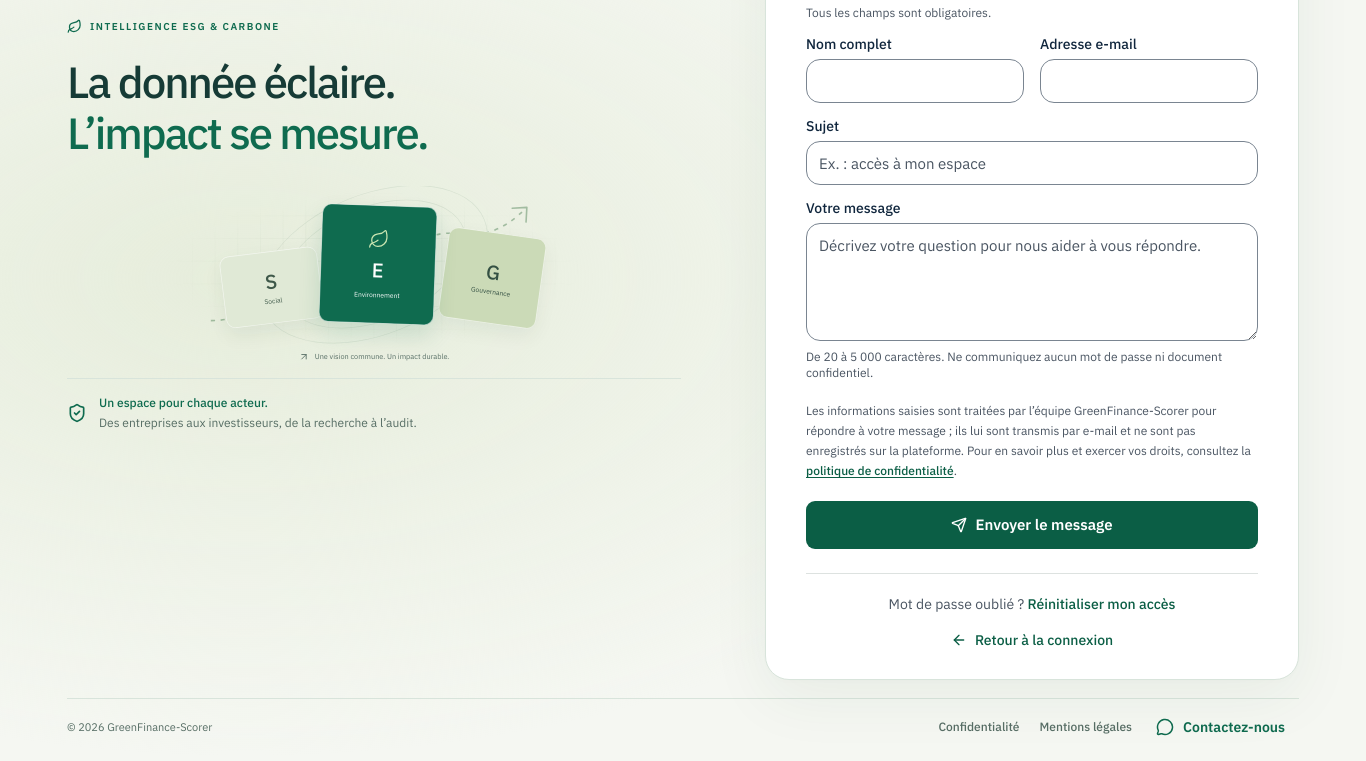
Test: ContactPage › signale chaque champ invalide et empêche l’envoi d’un formulaire vide
(page scrolled)
Click the button "Envoyer le message" at {"x": 1032, "y": 525}, box [806,501,1258,549]
(page scrolled)
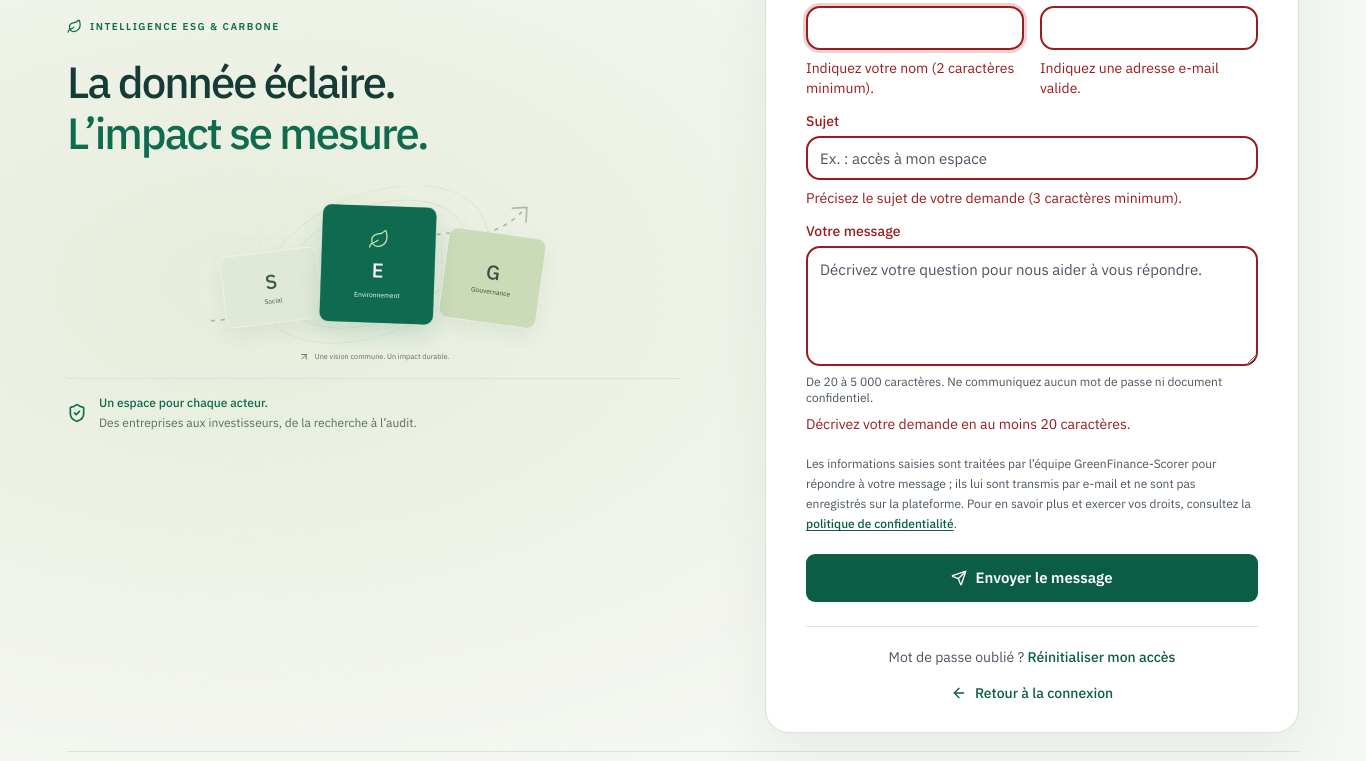
Now the text "Indiquez votre nom (2 caractères minimum)." is shown, box [806,58,1024,98]
Now the text "Indiquez une adresse e-mail valide." is shown, box [1040,59,1219,97]
Now the text "Précisez le sujet de votre demande (3 caractères minimum)." is shown, box [806,189,1182,207]
